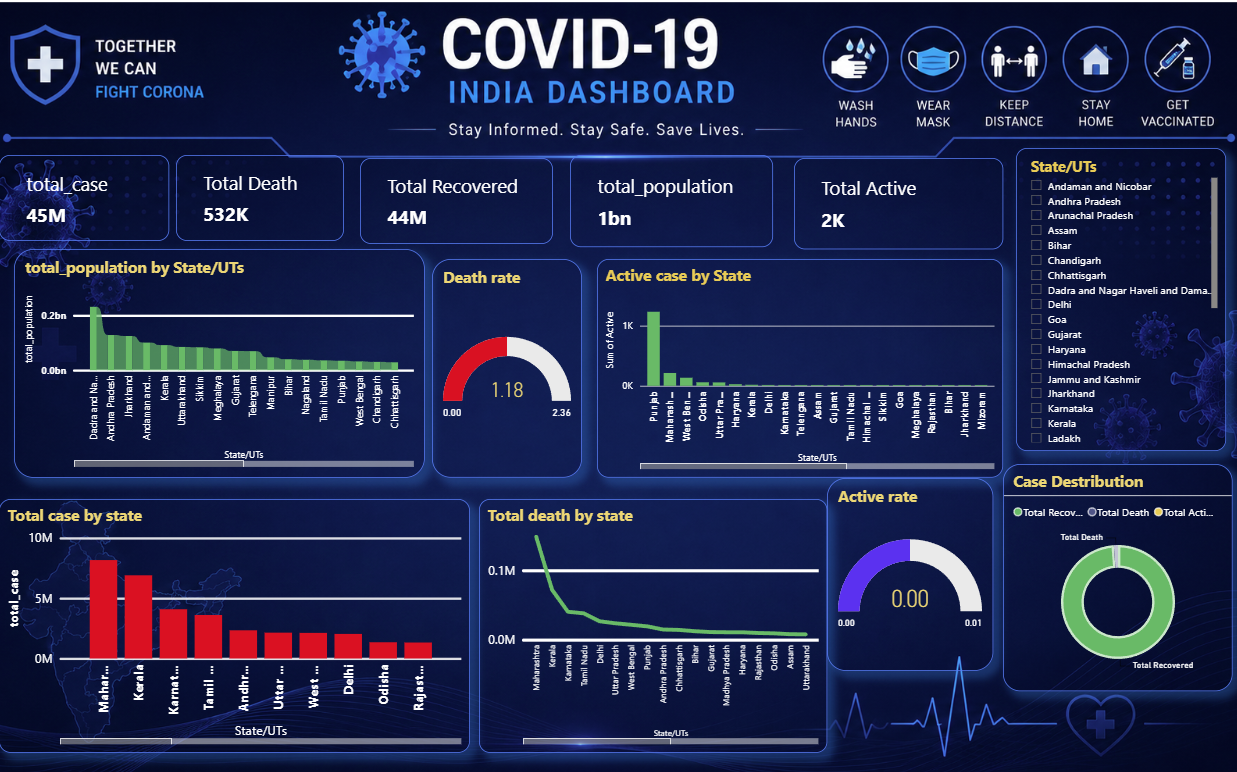

The dashboard page shown, as its layout file describes it:
{"tool":"powerbi","page":{"name":"Page 1","canvas":[1685,1018],"ordinal":0},"visuals":[{"type":"columnChart","title":"Total case by state","fields":{"Category":["Latest Covid-19 India Status.State/UTs"],"Y":["Latest Covid-19 India Status.total_case"]},"box":[48.7,649.2,603.1,325.2],"z":0},{"type":"clusteredColumnChart","title":"Active case by State","fields":{"Category":["Latest Covid-19 India Status.State/UTs"],"Y":["Sum(Latest Covid-19 India Status.Active)"]},"box":[814.3,341.9,519.8,280.4],"z":1000},{"type":"donutChart","title":"Case Destribution","fields":{"Y":["Latest Covid-19 India Status.total_recovered","Latest Covid-19 India Status.total_death","Latest Covid-19 India Status.total_active_case"]},"box":[1334.2,604.3,294.5,290.6],"z":2000},{"type":"cardVisual","fields":{"Data":["Latest Covid-19 India Status.total_death"]},"box":[275.3,208.7,215.1,110.1],"z":3000},{"type":"cardVisual","fields":{"Data":["Latest Covid-19 India Status.total_population"]},"box":[779.8,208.7,259.9,117.8],"z":4000},{"type":"cardVisual","fields":{"Data":["Latest Covid-19 India Status.total_recovered"]},"box":[510.9,212.5,247.1,110.1],"z":6000},{"type":"lineChart","title":"Total death by state             ","fields":{"Category":["Latest Covid-19 India Status.State/UTs"],"Y":["Latest Covid-19 India Status.total_death"]},"box":[663.2,649.2,445.6,325.2],"z":7000},{"type":"ribbonChart","fields":{"Category":["Latest Covid-19 India Status.State/UTs"],"Y":["Latest Covid-19 India Status.total_population"]},"box":[67.9,329.1,526.2,293.2],"z":8000},{"type":"gauge","title":"Death rate","fields":{"Y":["Latest Covid-19 India Status.death-percentage"]},"box":[603.1,341.9,192.1,280.4],"z":9000},{"type":"cardVisual","fields":{"Data":["Latest Covid-19 India Status.total_active_case"]},"box":[1066.6,212.5,267.6,116.5],"z":10000},{"type":"gauge","title":"Active rate","fields":{"Y":["Latest Covid-19 India Status.active_rate_percentage"]},"box":[1108.8,622.3,212.5,247.1],"z":11000},{"type":"slicer","fields":{"Values":["Latest Covid-19 India Status.State/UTs"]},"box":[1350.8,199.7,268.9,388],"z":12000},{"type":"cardVisual","fields":{"Data":["Latest Covid-19 India Status.total_case"]},"box":[48.7,208.7,217.7,110.1],"z":12002}]}

Visuals, with their boxes on the page's 1685x1018 design canvas (x1, y1, x2, y2). These are canvas units, not pixel positions in the 1237x772 screenshot, which may show the page scaled, cropped or inside an application window:
"Total case by state" columnChart: pyautogui.locateOnScreen(49, 649, 652, 974)
"Active case by State" clusteredColumnChart: pyautogui.locateOnScreen(814, 342, 1334, 622)
"Case Destribution" donutChart: pyautogui.locateOnScreen(1334, 604, 1629, 895)
cardVisual - Latest Covid-19 India Status.total_death: pyautogui.locateOnScreen(275, 209, 490, 319)
cardVisual - Latest Covid-19 India Status.total_population: pyautogui.locateOnScreen(780, 209, 1040, 326)
cardVisual - Latest Covid-19 India Status.total_recovered: pyautogui.locateOnScreen(511, 212, 758, 323)
"Total death by state             " lineChart: pyautogui.locateOnScreen(663, 649, 1109, 974)
ribbonChart - Latest Covid-19 India Status.State/UTs x Latest Covid-19 India Status.total_population: pyautogui.locateOnScreen(68, 329, 594, 622)
"Death rate" gauge: pyautogui.locateOnScreen(603, 342, 795, 622)
cardVisual - Latest Covid-19 India Status.total_active_case: pyautogui.locateOnScreen(1067, 212, 1334, 329)
"Active rate" gauge: pyautogui.locateOnScreen(1109, 622, 1321, 869)
slicer - Latest Covid-19 India Status.State/UTs: pyautogui.locateOnScreen(1351, 200, 1620, 588)
cardVisual - Latest Covid-19 India Status.total_case: pyautogui.locateOnScreen(49, 209, 266, 319)
